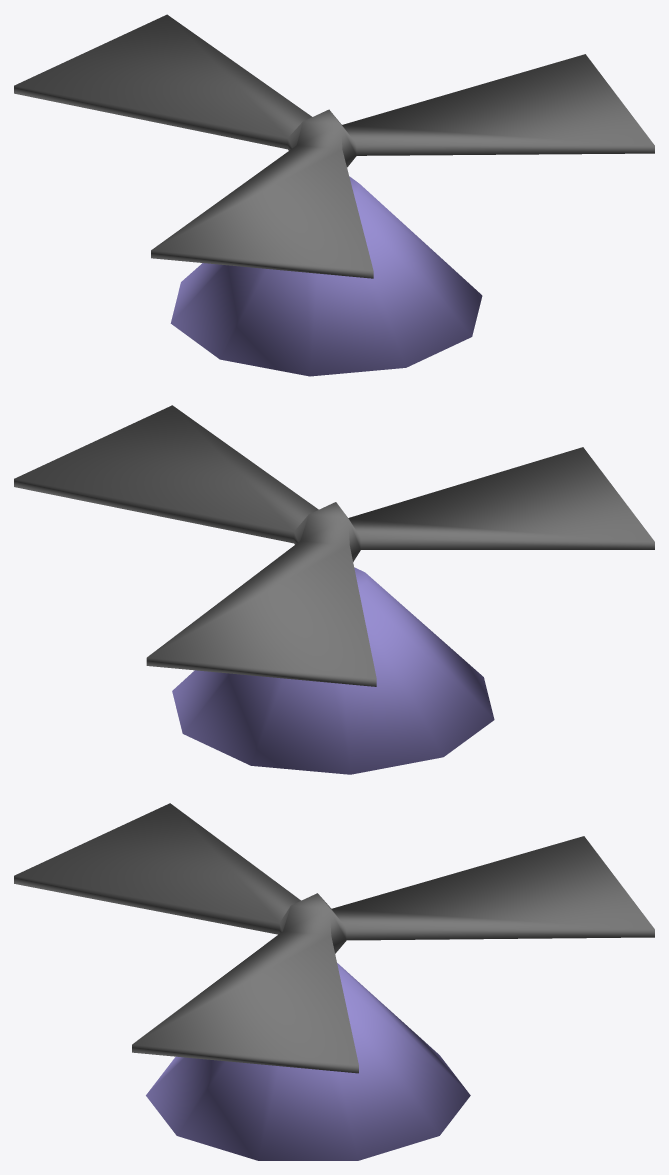
The model's file is Fan.gltf.
3 renders of one model, top to bottom at view 1: azimuth 30°, elevation 25°; view 2: azimuth 150°, elevation 25°; view 3: azimuth 270°, elevation 25°, orthographic. The views are drawn at different scales.
Parts seen in each view (by area): view 1: Fan_glb, Fan_base_glb; view 2: Fan_glb, Fan_base_glb; view 3: Fan_glb, Fan_base_glb.
Boxes of the visible parts, bbox=[...] form: Fan_glb: bbox=[14, 14, 654, 278]; Fan_base_glb: bbox=[170, 176, 482, 376]; Fan_glb: bbox=[14, 405, 654, 686]; Fan_base_glb: bbox=[172, 567, 494, 774]; Fan_glb: bbox=[14, 803, 654, 1073]; Fan_base_glb: bbox=[146, 963, 470, 1160].
Size of what is drawn, in the model's own units: 0.5423 by 0.186 by 0.56.
Materials: 1 (1 with a texture image).
